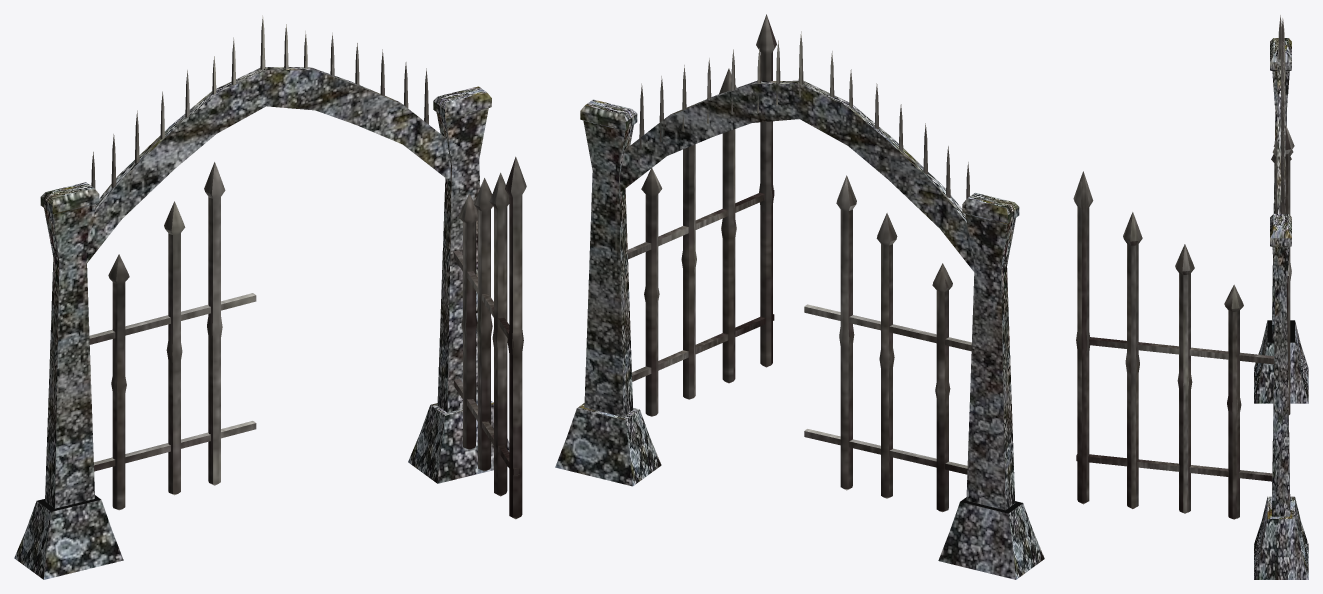
File: portail.FBX
3 renders of one model, left to right at view 1: azimuth 30°, elevation 25°; view 2: azimuth 150°, elevation 25°; view 3: azimuth 270°, elevation 25°, orthographic. The views are drawn at different scales.
Visible parts, largest first — view 1: Box002; view 2: Box002; view 3: Box002.
Boxes of the visible parts, x1,y1,x2,y2 form: Box002: (14,15,526,579); Box002: (555,14,1044,579); Box002: (1073,15,1308,579).
Size of the model in its own units: 180 by 180 by 84.17.
6 materials, 2 textured.
